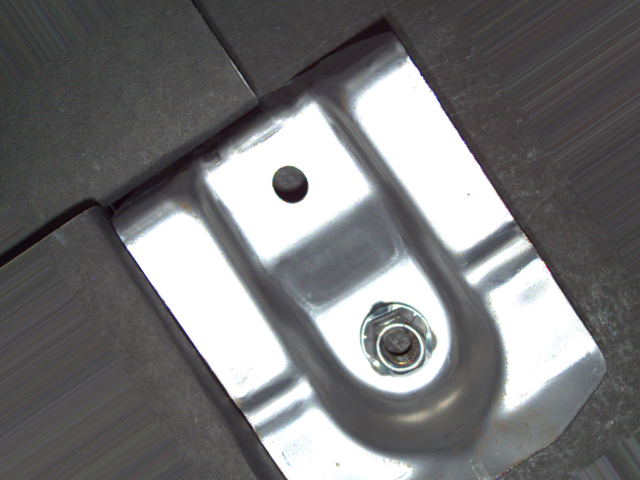good: (358, 300, 440, 382)
